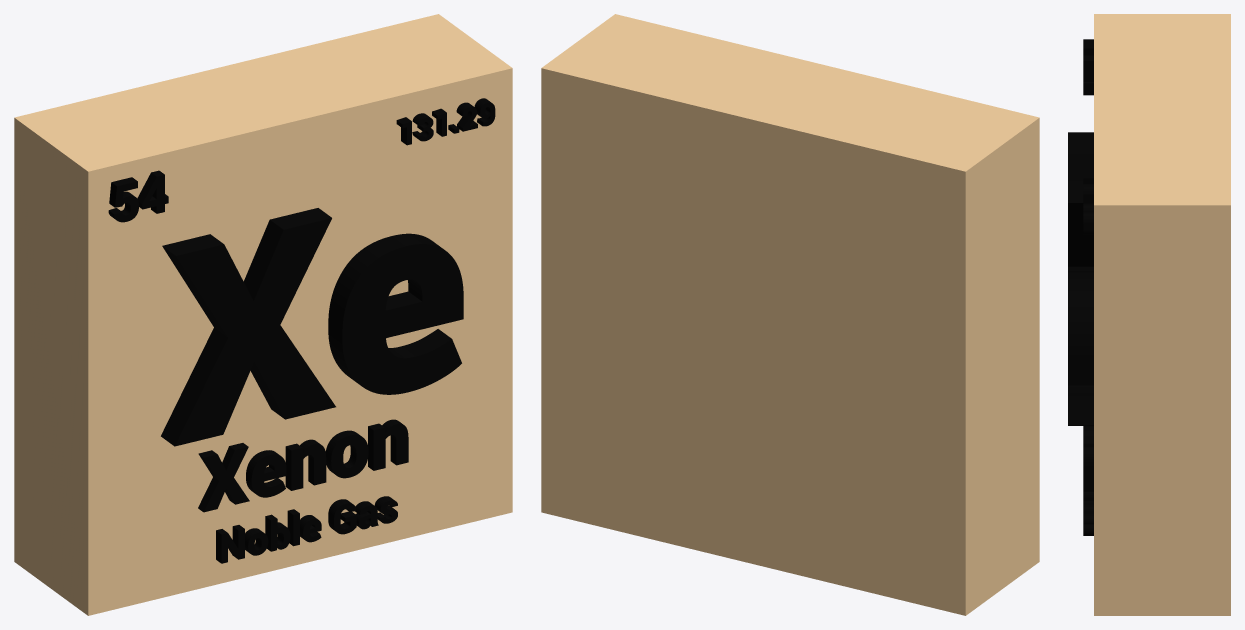
3 views of the same model, side by side, from view 1: azimuth 30°, elevation 25°; view 2: azimuth 150°, elevation 25°; view 3: azimuth 270°, elevation 25° (orthographic). The views are drawn at different scales.
Visible parts, largest first — view 1: Cube, Text, Text.001, Text.002, Text.004, Text.003; view 2: Cube; view 3: Cube, Text, Text.001, Text.004, Text.003, Text.002.
Boxes of the visible parts, box(x1,y1,x2,y2) form: Cube: box(14, 14, 512, 615); Text: box(161, 208, 463, 446); Text.001: box(198, 419, 408, 512); Text.002: box(216, 496, 397, 563); Text.004: box(396, 98, 495, 145); Text.003: box(108, 170, 168, 222); Cube: box(541, 14, 1039, 615); Cube: box(1094, 14, 1230, 615); Text: box(1068, 132, 1093, 425); Text.001: box(1083, 426, 1093, 491); Text.004: box(1083, 175, 1093, 234); Text.003: box(1083, 39, 1093, 95); Text.002: box(1083, 491, 1093, 535).
Bounding box in the file's own units: 178 × 178 × 63.95.
